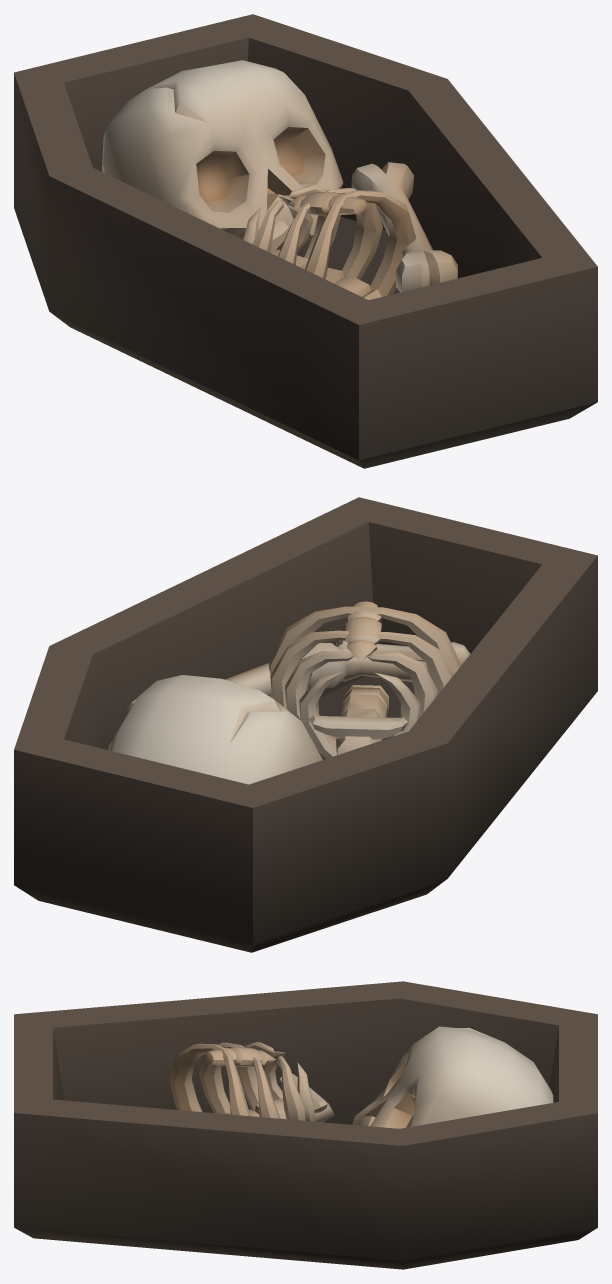
Rendered from coffin-decorated.glb.
3 renders of one model, top to bottom at view 1: azimuth 30°, elevation 25°; view 2: azimuth 150°, elevation 25°; view 3: azimuth 270°, elevation 25°, orthographic. The views are drawn at different scales.
Visible parts, largest first — view 1: coffin-decorated; view 2: coffin-decorated; view 3: coffin-decorated.
Part boxes in pixels (box(x1,y1,x2,y2)): coffin-decorated: box(14, 14, 597, 468); coffin-decorated: box(14, 497, 597, 952); coffin-decorated: box(14, 981, 597, 1269).
Size of the model in its own units: 1.4 by 0.6317 by 2.1.
